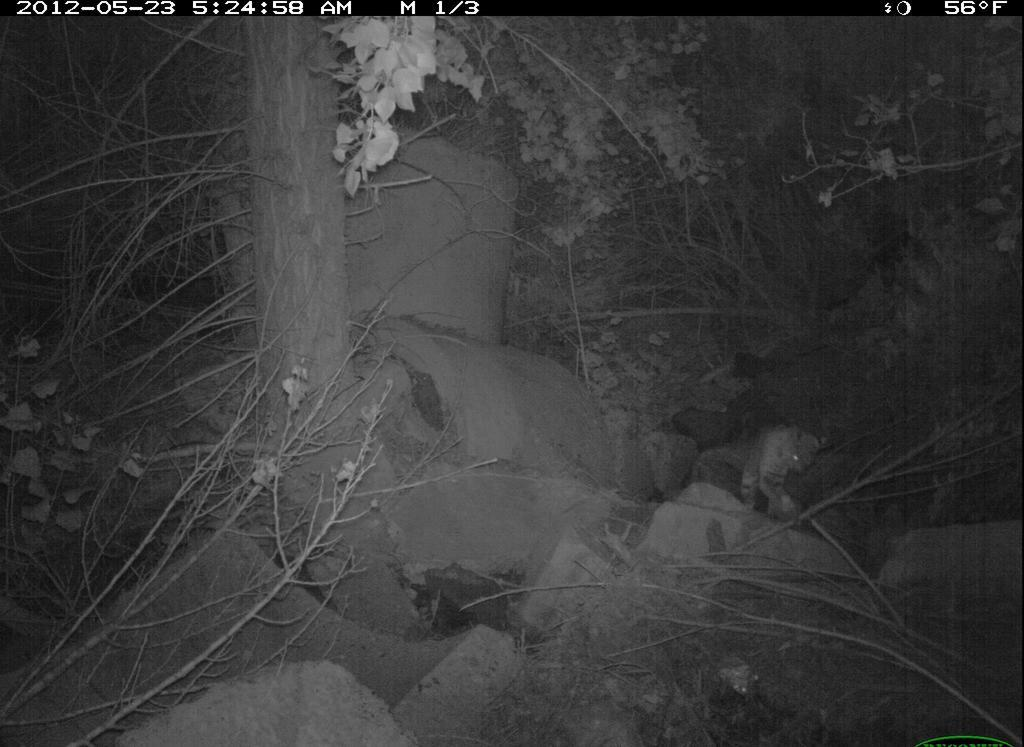bobcat: (679, 409, 836, 536)
